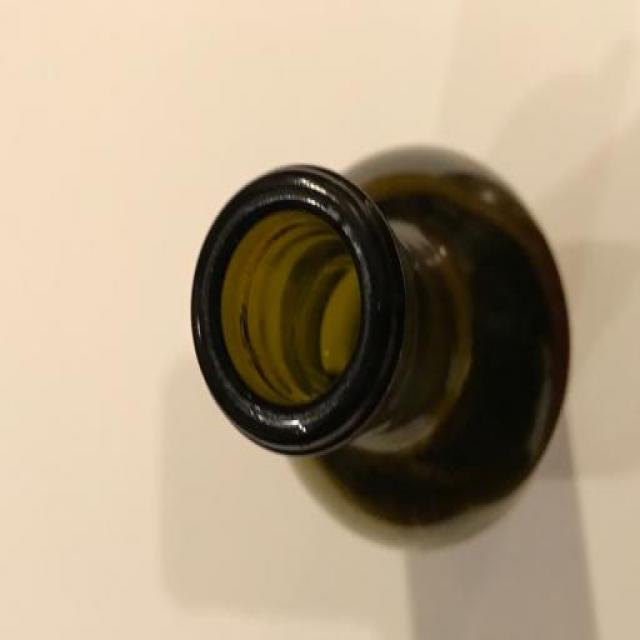glass: (163, 111, 640, 618)
